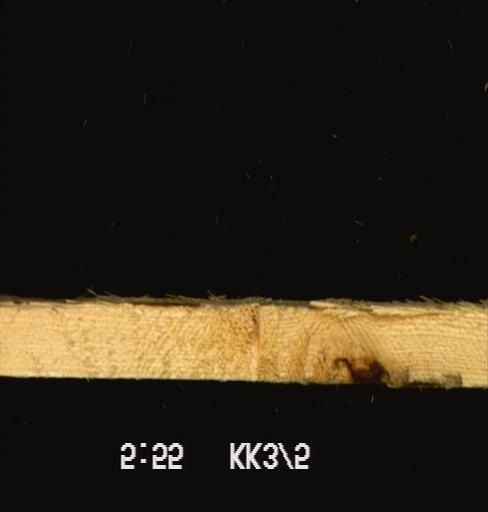edge_knot: (327, 351, 392, 385)
